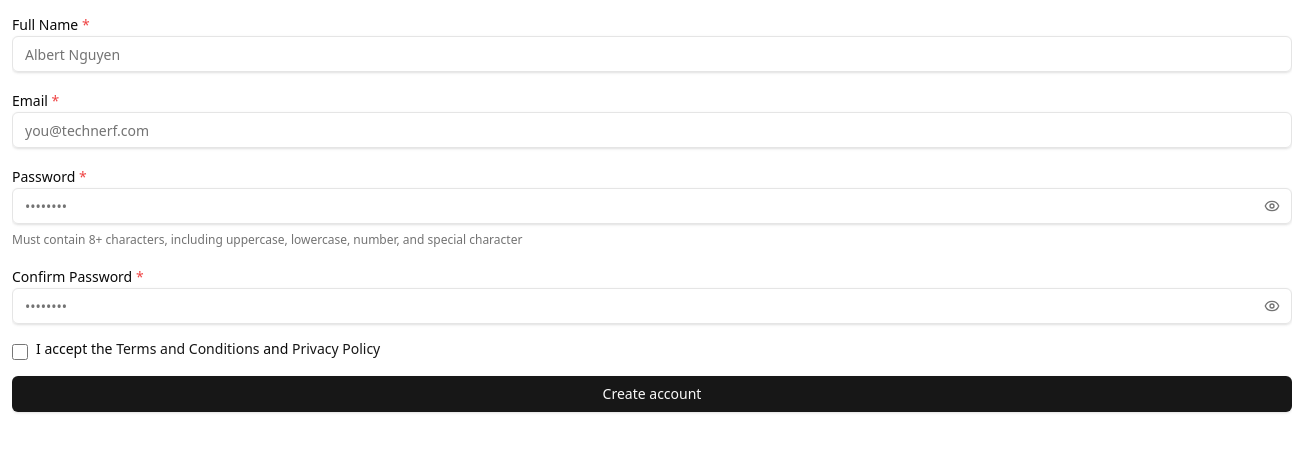
Test: RegisterForm › shows error when terms are not accepted
Type "John Doe" into the field labelled "Full Name *" at [652, 54], box [12,36,1292,72]
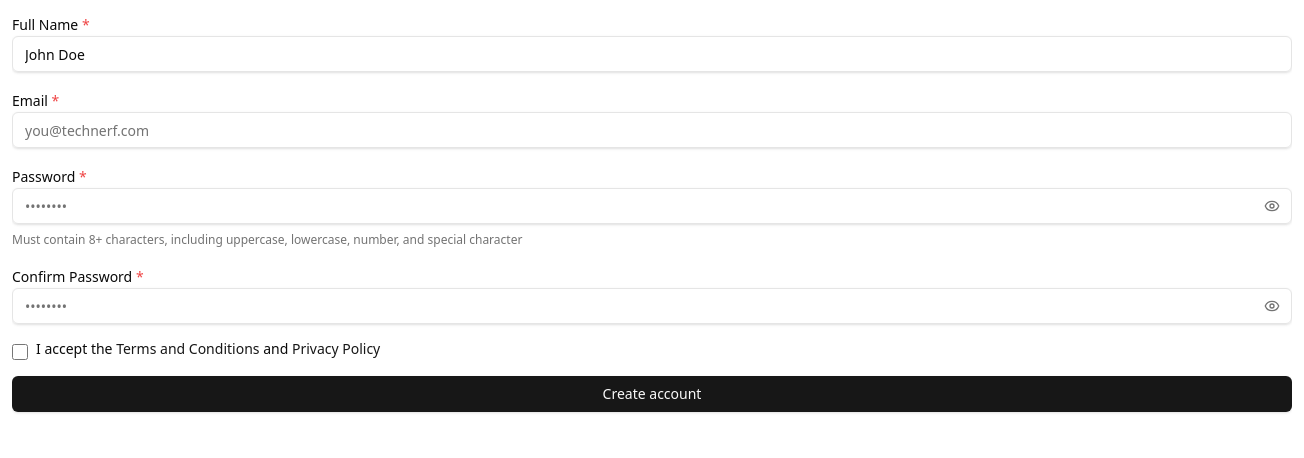
Type "john@example.com" into the field labelled "Email *" at [652, 130], box [12,112,1292,148]
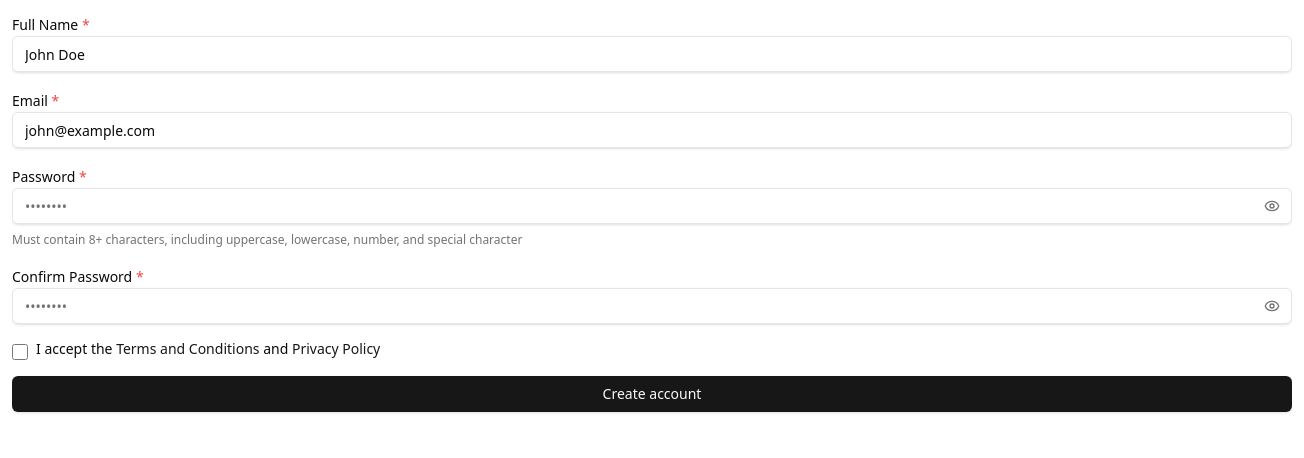
Type "ValidPass123!" into the password field labelled "Password *" at [652, 206], box [12,188,1292,224]
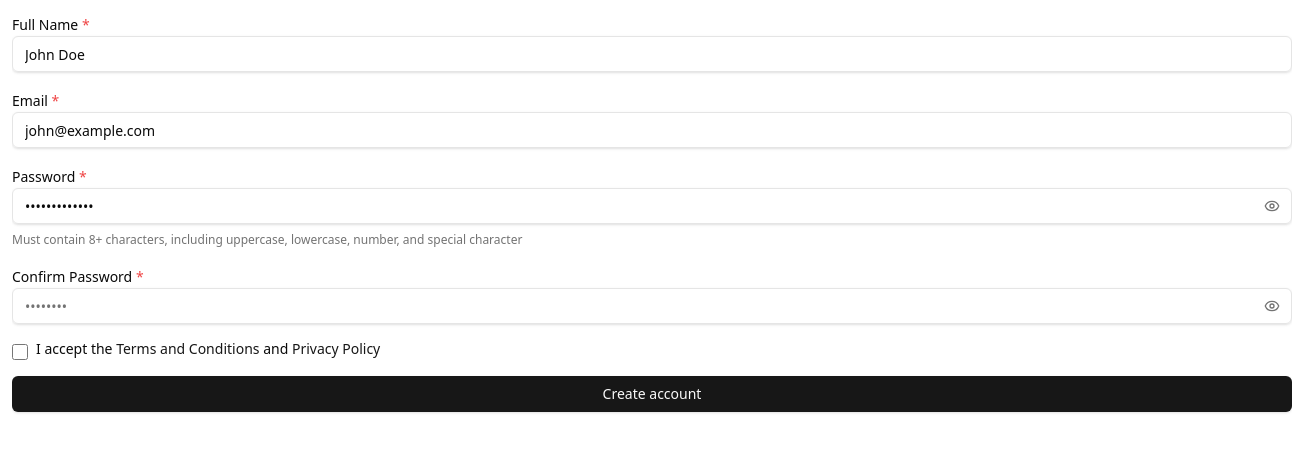
Type "ValidPass123!" into the password field labelled "Confirm Password *" at [652, 306], box [12,288,1292,324]
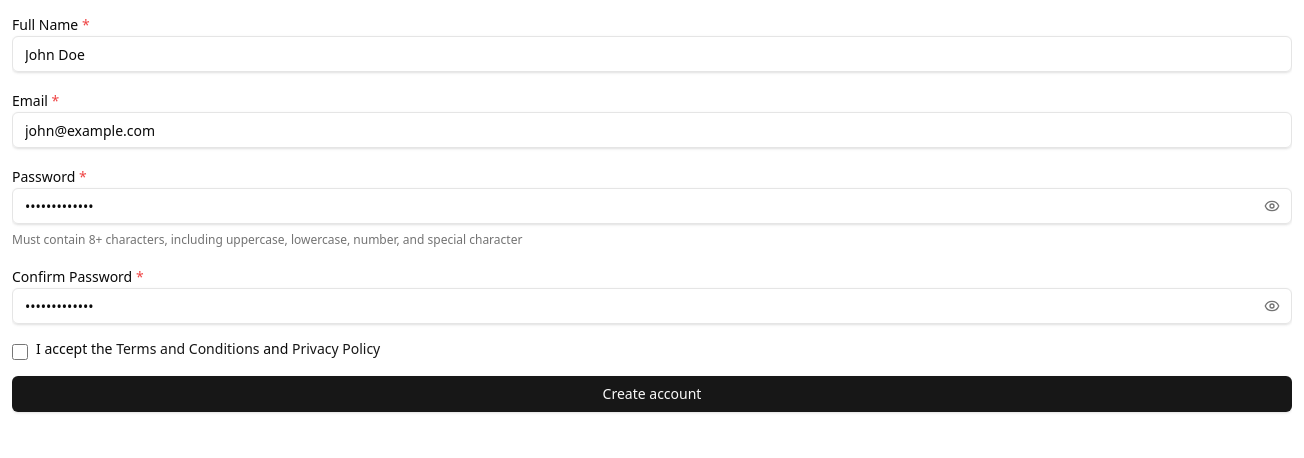
Click the button "Create account" at [652, 394], box [12,376,1292,412]
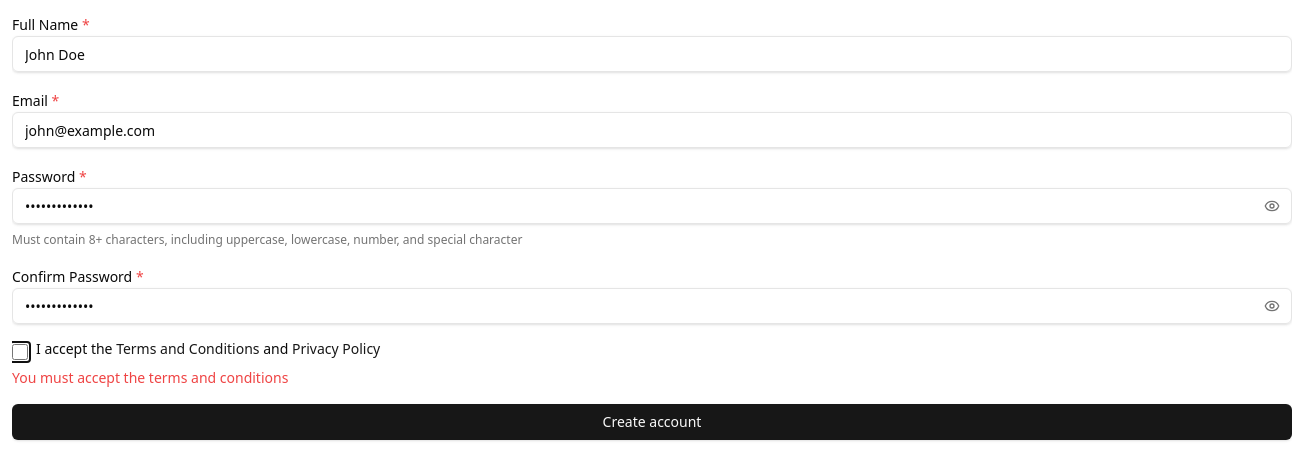
Result: the text "You must accept the terms and conditions" is shown at [12,368,288,387]
